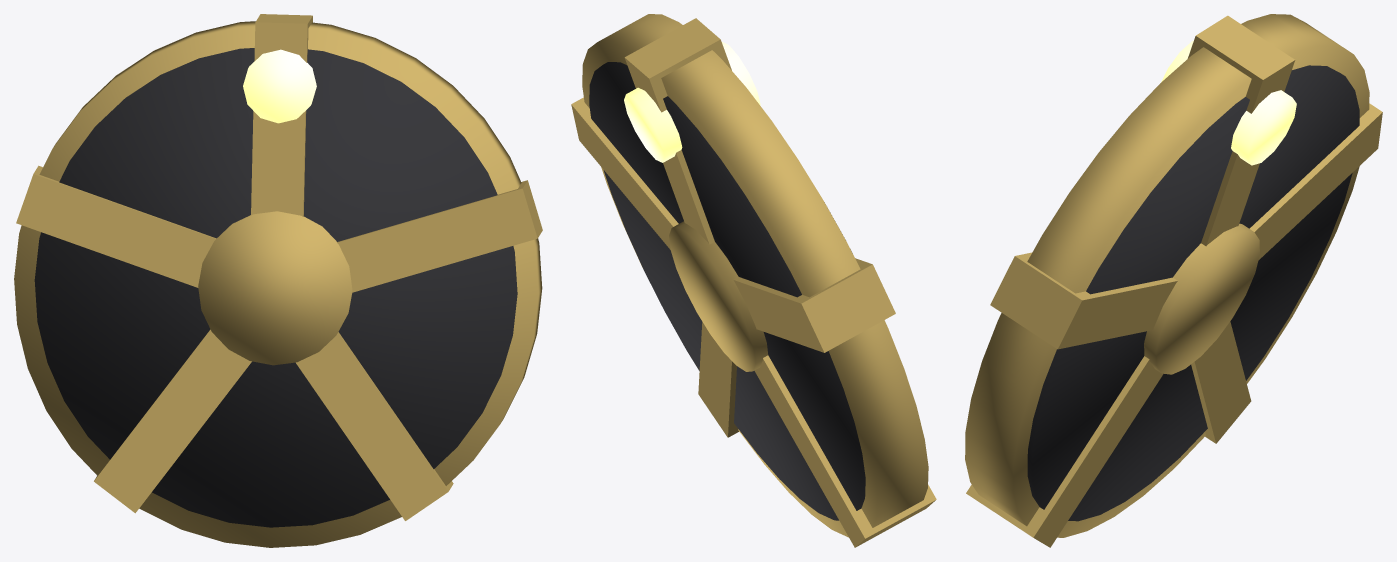
The model's file is reel.glb.
3 views of the same model, side by side, from view 1: azimuth 30°, elevation 25°; view 2: azimuth 150°, elevation 25°; view 3: azimuth 270°, elevation 25° (orthographic). The views are drawn at different scales.
Parts seen in each view (by area): view 1: kvs_reel_web, kvs_reel_rim, kvs_reel_hub, kvs_reel_spoke_4, kvs_reel_spoke_1, kvs_reel_spoke_3, kvs_reel_spoke_2, kvs_reel_spoke_0, kvs_reel_index; view 2: kvs_reel_rim, kvs_reel_web, kvs_reel_spoke_1, kvs_reel_hub, kvs_reel_spoke_0, kvs_reel_spoke_2, kvs_reel_spoke_4, kvs_reel_index, kvs_reel_spoke_3; view 3: kvs_reel_web, kvs_reel_rim, kvs_reel_hub, kvs_reel_spoke_4, kvs_reel_spoke_0, kvs_reel_spoke_3, kvs_reel_spoke_1, kvs_reel_spoke_2, kvs_reel_index.
Part boxes in pixels (bbox=[...]): kvs_reel_web: bbox=[34, 48, 517, 527]; kvs_reel_rim: bbox=[14, 21, 542, 547]; kvs_reel_hub: bbox=[198, 211, 352, 365]; kvs_reel_spoke_4: bbox=[337, 180, 542, 292]; kvs_reel_spoke_1: bbox=[16, 165, 216, 287]; kvs_reel_spoke_3: bbox=[296, 332, 453, 520]; kvs_reel_spoke_2: bbox=[94, 329, 251, 513]; kvs_reel_spoke_0: bbox=[251, 14, 312, 216]; kvs_reel_index: bbox=[243, 49, 316, 123]; kvs_reel_rim: bbox=[582, 14, 928, 537]; kvs_reel_web: bbox=[589, 62, 865, 520]; kvs_reel_spoke_1: bbox=[733, 258, 895, 352]; kvs_reel_hub: bbox=[669, 221, 768, 371]; kvs_reel_spoke_0: bbox=[624, 18, 731, 244]; kvs_reel_spoke_2: bbox=[754, 355, 936, 547]; kvs_reel_spoke_4: bbox=[571, 97, 678, 249]; kvs_reel_index: bbox=[624, 42, 760, 162]; kvs_reel_spoke_3: bbox=[698, 322, 738, 437]; kvs_reel_web: bbox=[1027, 65, 1359, 521]; kvs_reel_rim: bbox=[965, 14, 1369, 537]; kvs_reel_hub: bbox=[1144, 223, 1259, 374]; kvs_reel_spoke_4: bbox=[990, 252, 1177, 349]; kvs_reel_spoke_0: bbox=[1187, 15, 1295, 246]; kvs_reel_spoke_3: bbox=[966, 356, 1163, 547]; kvs_reel_spoke_1: bbox=[1249, 103, 1382, 260]; kvs_reel_spoke_2: bbox=[1191, 321, 1251, 443]; kvs_reel_index: bbox=[1161, 40, 1296, 165].
Size of the model in its own units: 0.0693 by 0.0746 by 0.0544.
